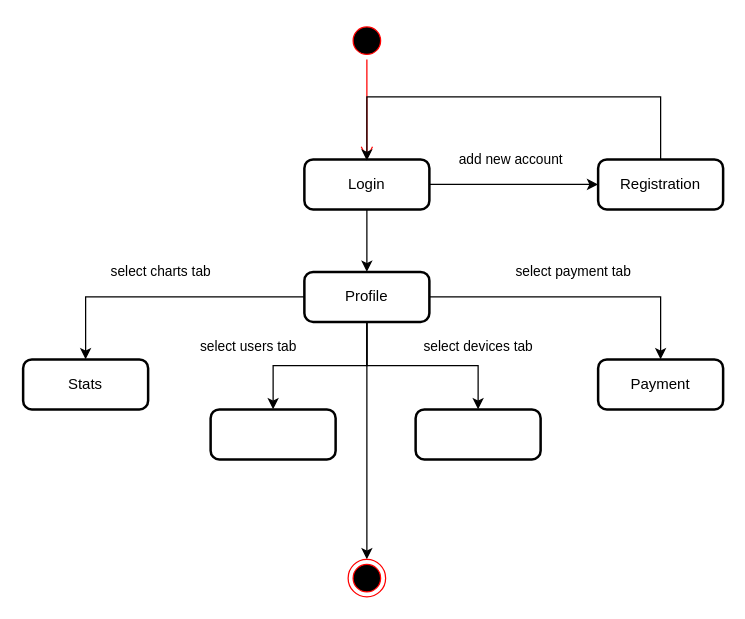
This 745x619 diagram has some shape labels left out. Here are the shapes that lost their labels. From the top down, the centre of each, then its label:
the point at 272,434: Users
the point at 477,434: Devices
